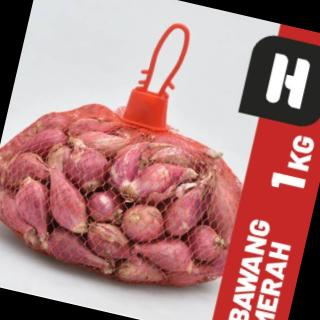Bawang Merah: (1, 80, 255, 304)
